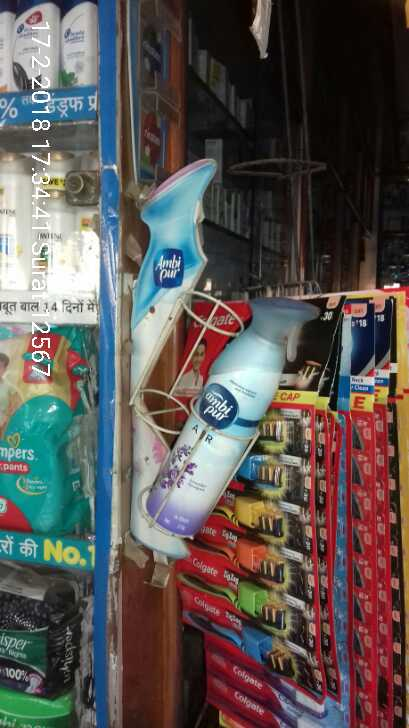beauty: (9, 2, 56, 91), (58, 2, 98, 91)
home: (144, 297, 320, 533)
